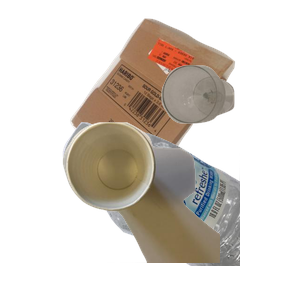cardboard: (67, 16, 295, 196)
glass: (159, 63, 300, 179)
plastic: (60, 120, 300, 300)
trash: (60, 120, 300, 300)
